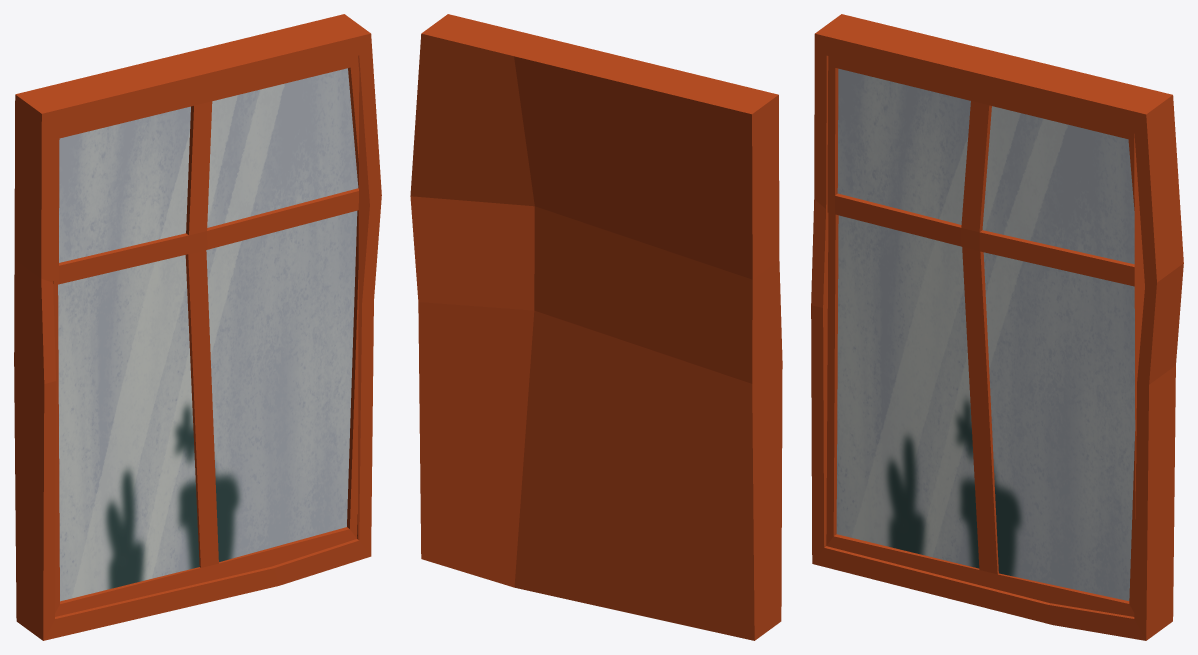
Rendered from Window22.fbx.
The picture shows the model from 3 angles, left to right: view 1: azimuth 30°, elevation 25°; view 2: azimuth 150°, elevation 25°; view 3: azimuth 330°, elevation 25°; orthographic projection.
Parts seen in each view (by area): view 1: Cube.083; view 2: Cube.083; view 3: Cube.083.
Part boxes in pixels (bbox=[...]): Cube.083: bbox=[14, 14, 381, 640]; Cube.083: bbox=[410, 14, 782, 640]; Cube.083: bbox=[811, 14, 1183, 640].
Bounding box in the file's own units: 129 × 191 × 19.77.
